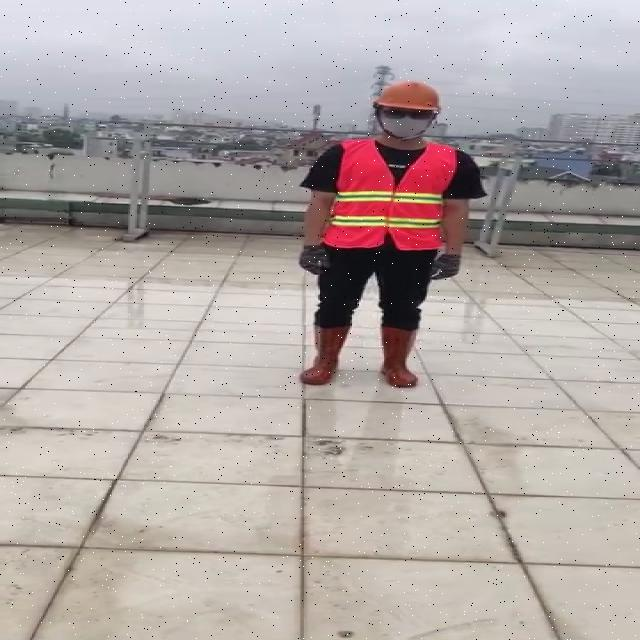Hard_hat: (369, 79, 451, 112)
Person: (288, 75, 489, 398)
Vest: (324, 137, 452, 254)
